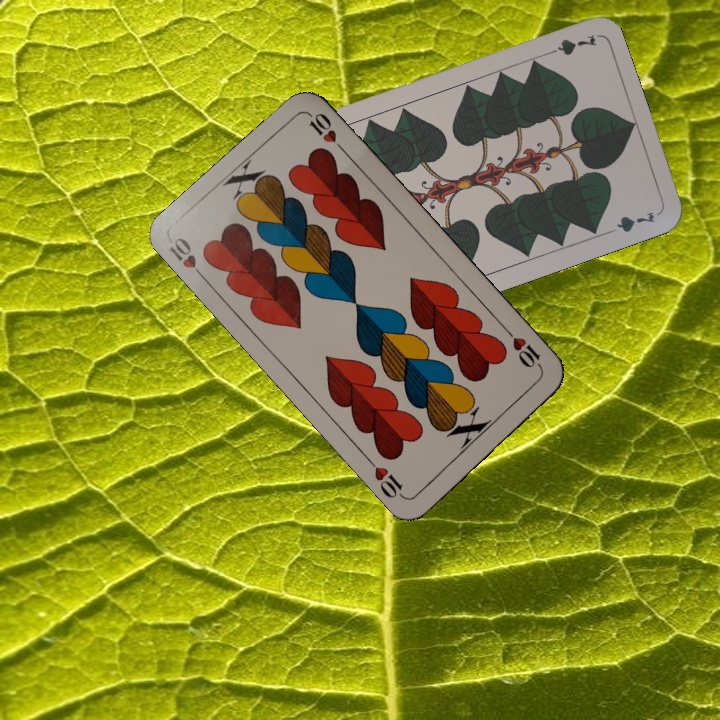G7: (539, 31, 599, 59)
H10: (165, 233, 210, 285), (501, 325, 546, 373)
